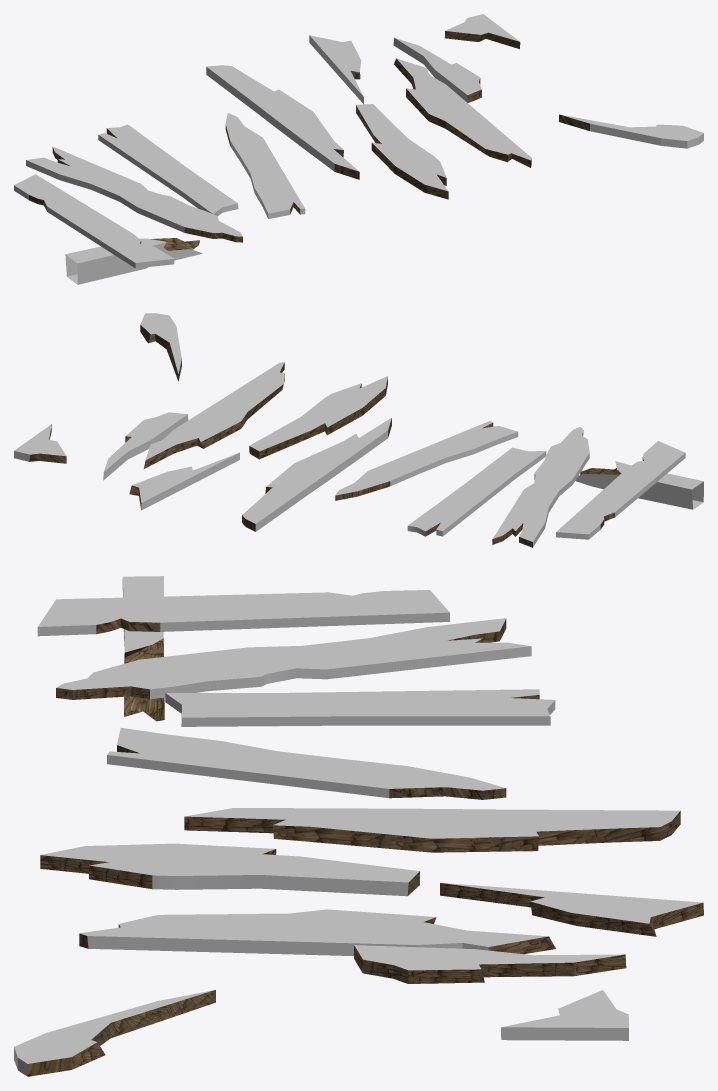
Rendered from lower_city_levitating_platform_03.fbx.
3 renders of one model, top to bottom at view 1: azimuth 30°, elevation 25°; view 2: azimuth 150°, elevation 25°; view 3: azimuth 270°, elevation 25°, orthographic. The views are drawn at different scales.
Visible parts, largest first — view 1: levitating_wood_8, levitating_wood_12, levitating_wood_7, levitating_wood_4, levitating_wood_1, levitating_wood_11, levitating_wood_5, levitating_wood_9, levitating_wood_2, levitating_wood_10, levitating_wood_6, levitating_wood_3; view 2: levitating_wood_12, levitating_wood_8, levitating_wood_7, levitating_wood_5, levitating_wood_4, levitating_wood_1, levitating_wood_11, levitating_wood_9, levitating_wood_6, levitating_wood_10, levitating_wood_2, levitating_wood_3; view 3: levitating_wood_12, levitating_wood_8, levitating_wood_7, levitating_wood_4, levitating_wood_11, levitating_wood_1, levitating_wood_5, levitating_wood_10, levitating_wood_6, levitating_wood_2, levitating_wood_3, levitating_wood_9.
Part boxes in pixels (x1=…): levitating_wood_8: x1=26, y1=146, x2=242, y2=242; levitating_wood_12: x1=206, y1=65, x2=359, y2=179; levitating_wood_7: x1=394, y1=58, x2=531, y2=167; levitating_wood_4: x1=14, y1=174, x2=174, y2=268; levitating_wood_1: x1=98, y1=124, x2=238, y2=216; levitating_wood_11: x1=356, y1=104, x2=448, y2=199; levitating_wood_5: x1=225, y1=113, x2=305, y2=218; levitating_wood_9: x1=65, y1=238, x2=202, y2=284; levitating_wood_2: x1=559, y1=114, x2=703, y2=148; levitating_wood_10: x1=393, y1=37, x2=481, y2=102; levitating_wood_6: x1=309, y1=35, x2=363, y2=104; levitating_wood_3: x1=444, y1=14, x2=520, y2=49; levitating_wood_12: x1=242, y1=417, x2=391, y2=531; levitating_wood_8: x1=492, y1=427, x2=589, y2=547; levitating_wood_7: x1=144, y1=362, x2=284, y2=468; levitating_wood_5: x1=335, y1=421, x2=518, y2=500; levitating_wood_4: x1=556, y1=441, x2=685, y2=539; levitating_wood_1: x1=407, y1=447, x2=546, y2=536; levitating_wood_11: x1=249, y1=376, x2=387, y2=459; levitating_wood_9: x1=575, y1=461, x2=703, y2=509; levitating_wood_6: x1=129, y1=452, x2=239, y2=510; levitating_wood_10: x1=103, y1=412, x2=188, y2=480; levitating_wood_2: x1=140, y1=313, x2=181, y2=381; levitating_wood_3: x1=14, y1=424, x2=66, y2=463; levitating_wood_12: x1=184, y1=808, x2=680, y2=852; levitating_wood_8: x1=56, y1=618, x2=531, y2=699; levitating_wood_7: x1=79, y1=909, x2=555, y2=955; levitating_wood_4: x1=37, y1=590, x2=449, y2=636; levitating_wood_11: x1=40, y1=843, x2=419, y2=896; levitating_wood_1: x1=165, y1=689, x2=555, y2=726; levitating_wood_5: x1=107, y1=727, x2=506, y2=799; levitating_wood_10: x1=354, y1=945, x2=626, y2=983; levitating_wood_6: x1=440, y1=883, x2=703, y2=936; levitating_wood_2: x1=14, y1=990, x2=215, y2=1076; levitating_wood_3: x1=501, y1=990, x2=628, y2=1040; levitating_wood_9: x1=122, y1=576, x2=164, y2=721.
Bounding box in the file's own units: 5.95 × 0.2779 × 3.5.
